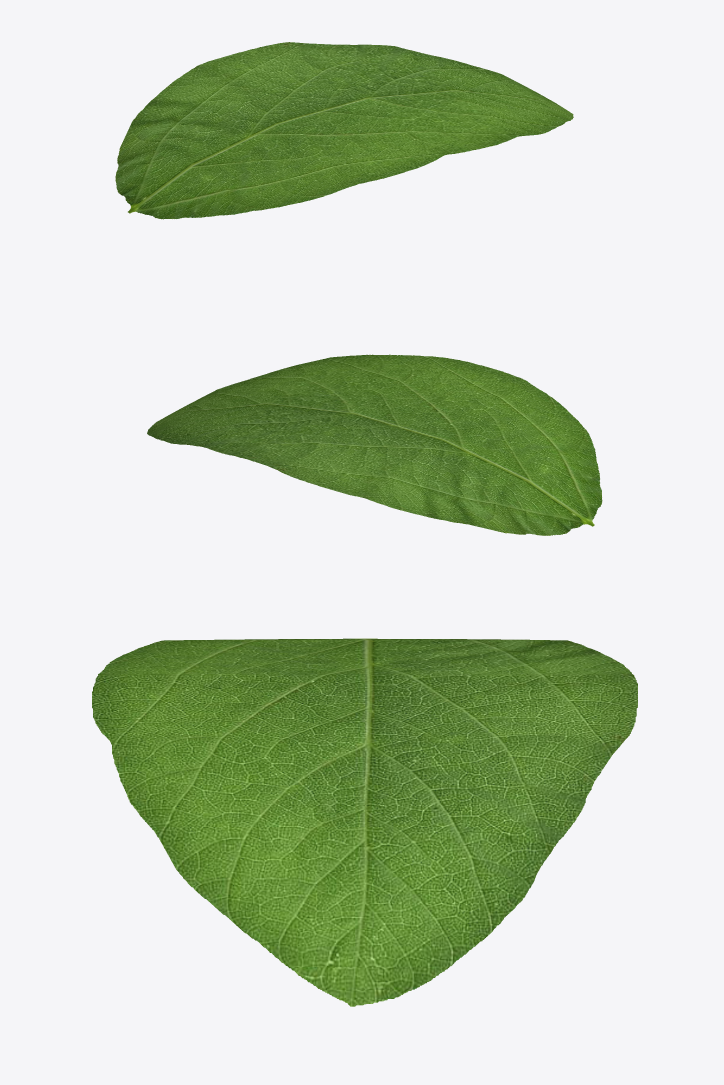
Rendered from SoyLeaf.fbx.
3 views of the same model, one above another, from view 1: azimuth 30°, elevation 25°; view 2: azimuth 150°, elevation 25°; view 3: azimuth 270°, elevation 25° (orthographic). The views are drawn at different scales.
Visible parts, largest first — view 1: SoyLeaf1; view 2: SoyLeaf1; view 3: SoyLeaf1.
Part boxes in pixels (x1=…): SoyLeaf1: x1=115, y1=42, x2=573, y2=219; SoyLeaf1: x1=147, y1=354, x2=602, y2=535; SoyLeaf1: x1=92, y1=638, x2=637, y2=1006.
Size of the model in its own units: 1.93 by 0.3135 by 1.44.
Materials: 1 (1 with a texture image).
